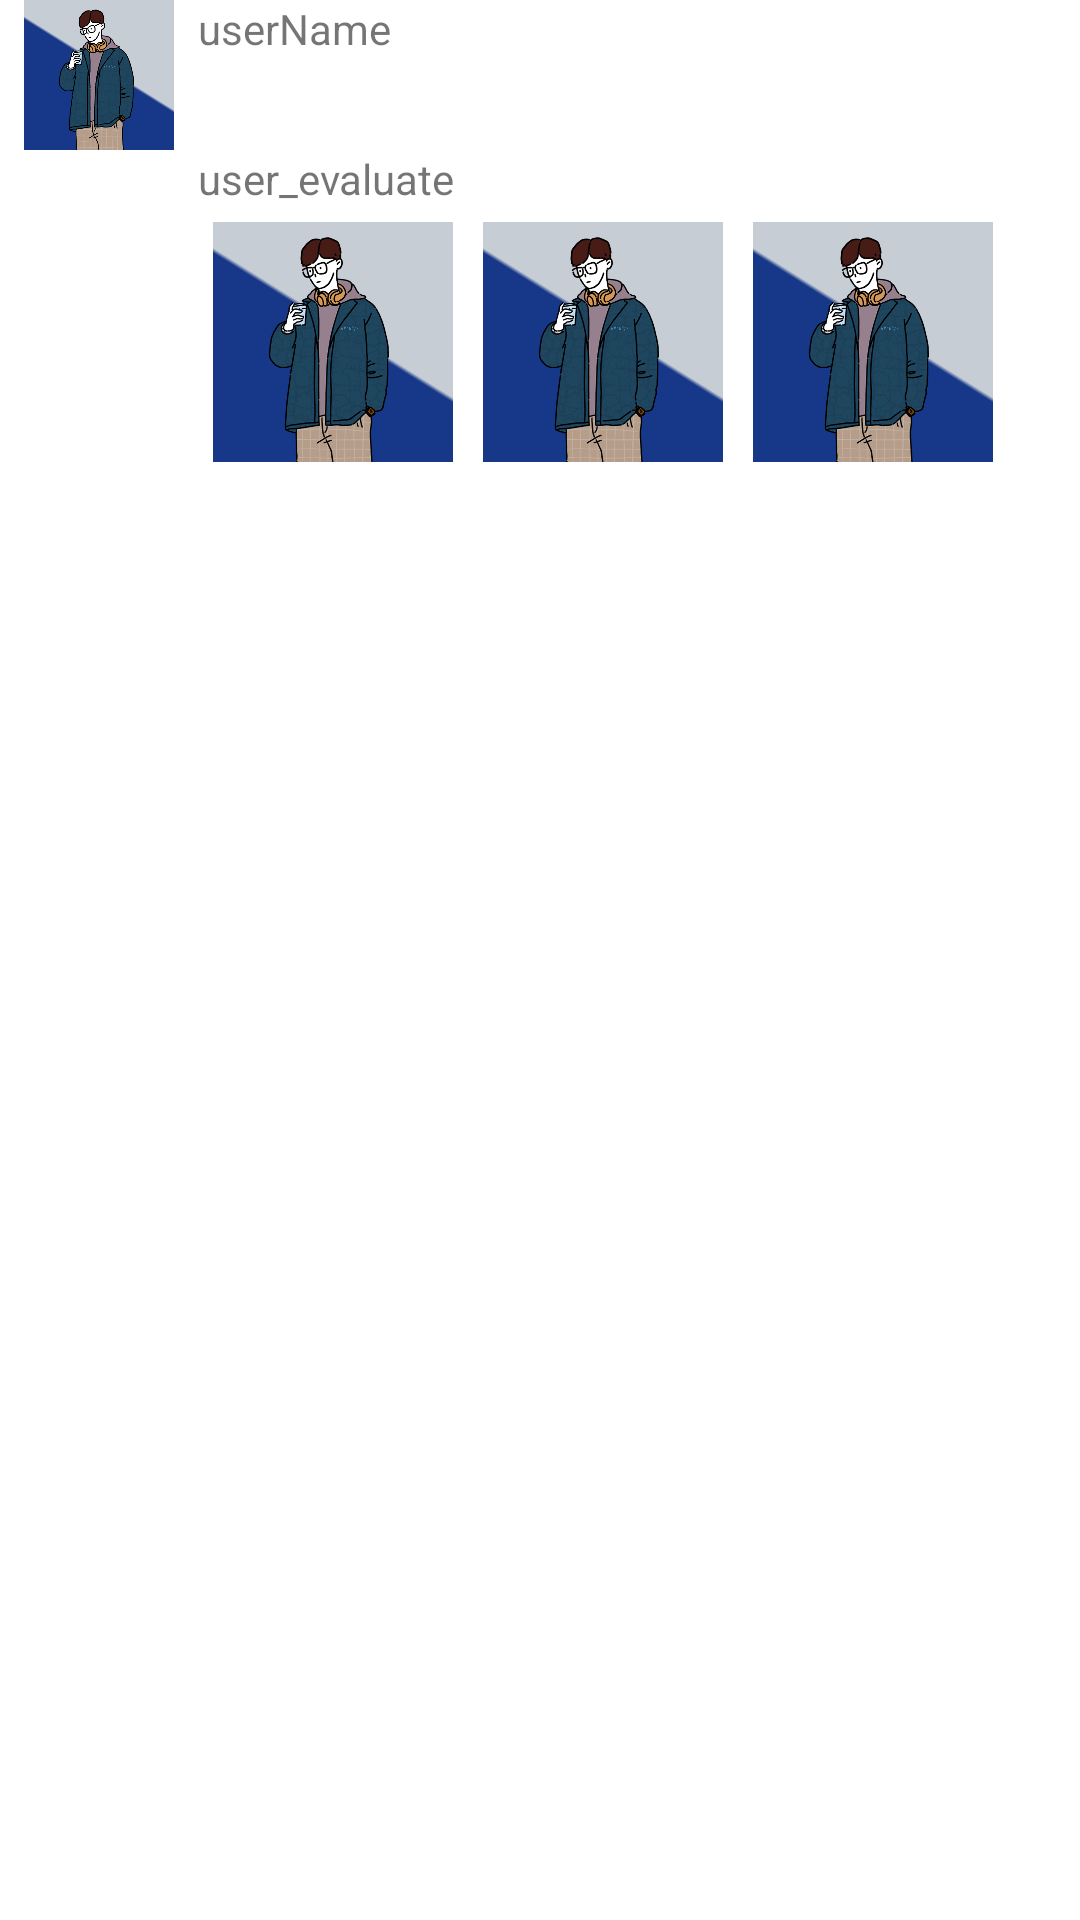

Locate icon controls on the screen. Image size 1080 × 1920, boxes as BBox(x1, y1, x2, y2).
account head: BBox(24, 0, 174, 150), BBox(213, 222, 453, 462), BBox(483, 222, 723, 462), BBox(753, 222, 993, 462)
